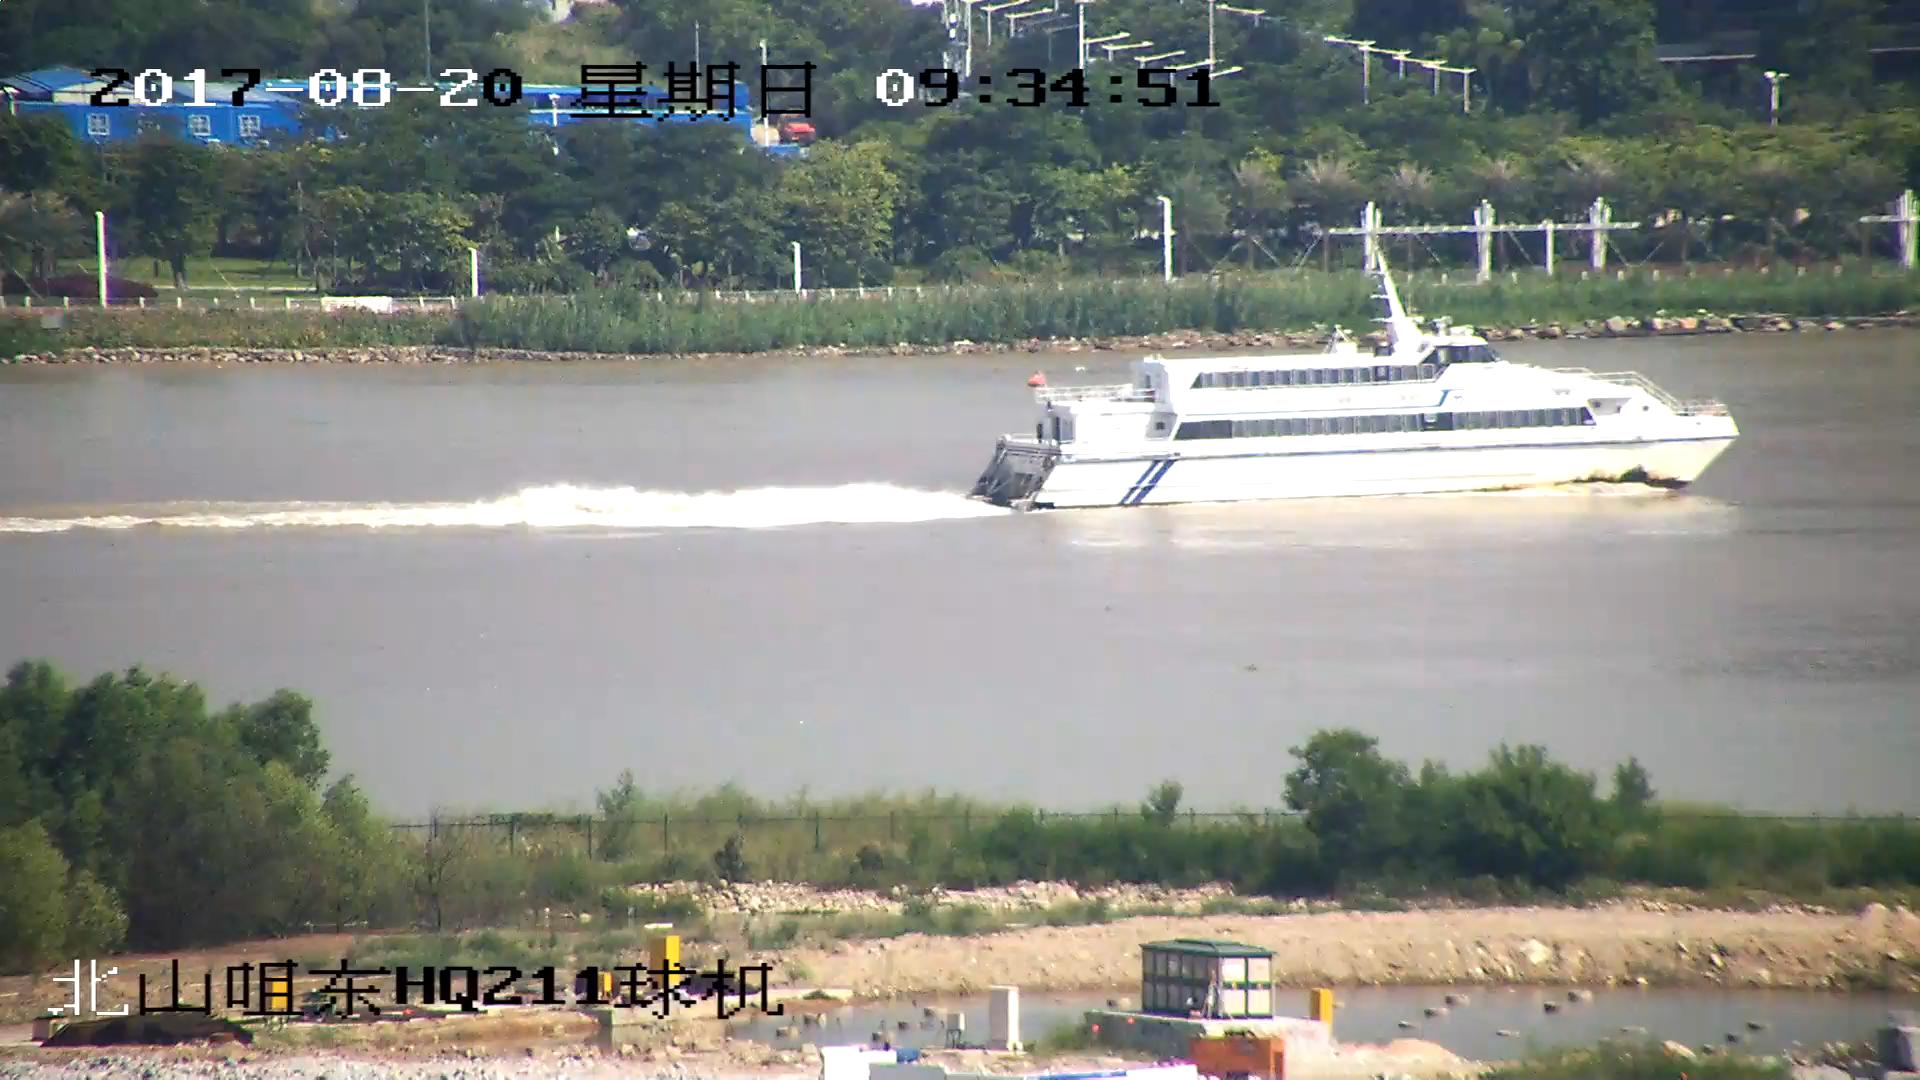passenger ship: (976, 240, 1743, 513)
